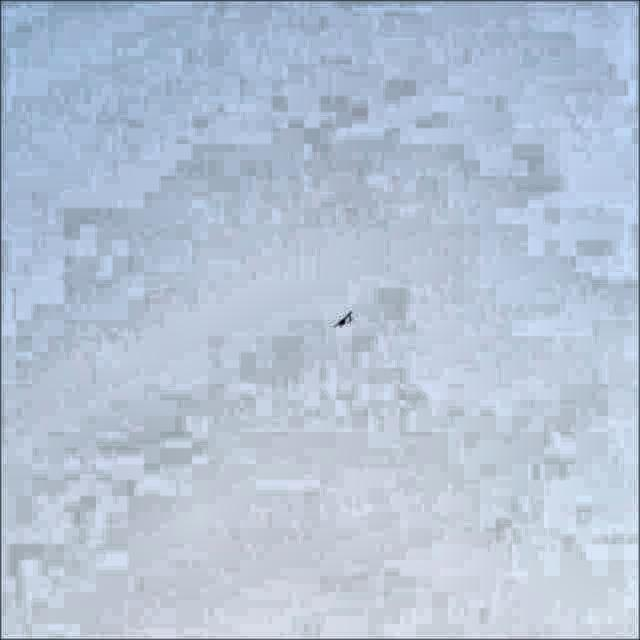iha: (327, 305, 363, 338)
